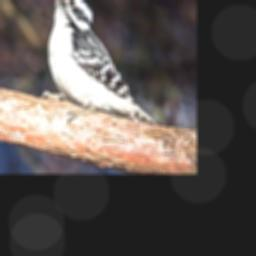Woodpecker: (38, 0, 156, 125)
